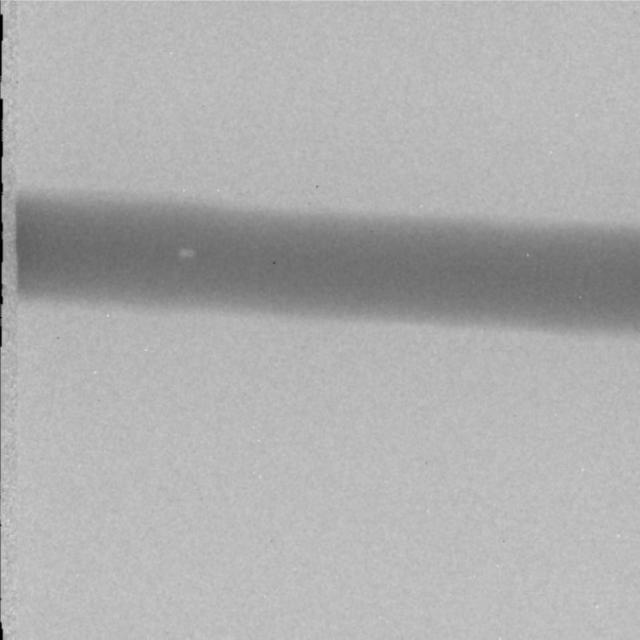air hole: (176, 247, 195, 263)
